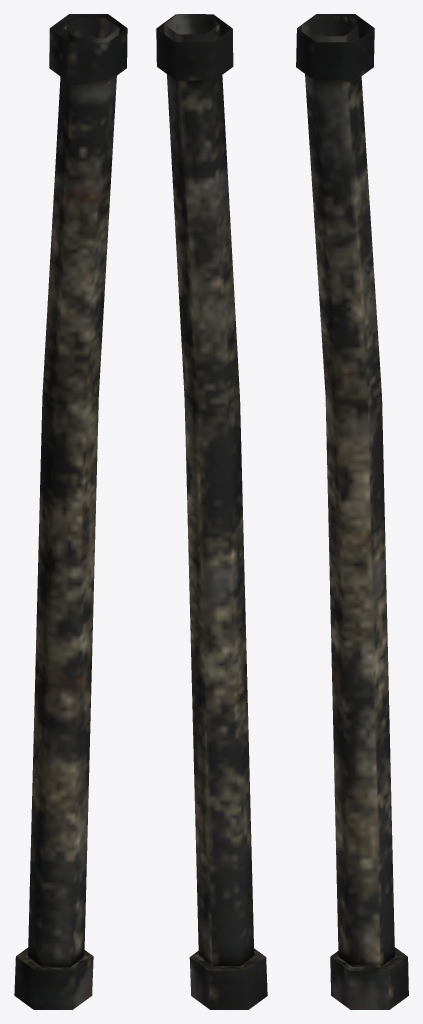
Rendered from SingleWirePipe.FBX.
The picture shows the model from 3 angles, left to right: view 1: azimuth 30°, elevation 25°; view 2: azimuth 210°, elevation 25°; view 3: azimuth 270°, elevation 25°; orthographic projection.
Parts seen in each view (by area): view 1: WirePipe; view 2: WirePipe; view 3: WirePipe.
Part boxes in pixels (x1,y1,x2,y2): WirePipe: [14, 14, 127, 1009]; WirePipe: [156, 14, 267, 1009]; WirePipe: [296, 14, 408, 1009].
Bounding box in the file's own units: 6.54 × 79.69 × 8.33.
